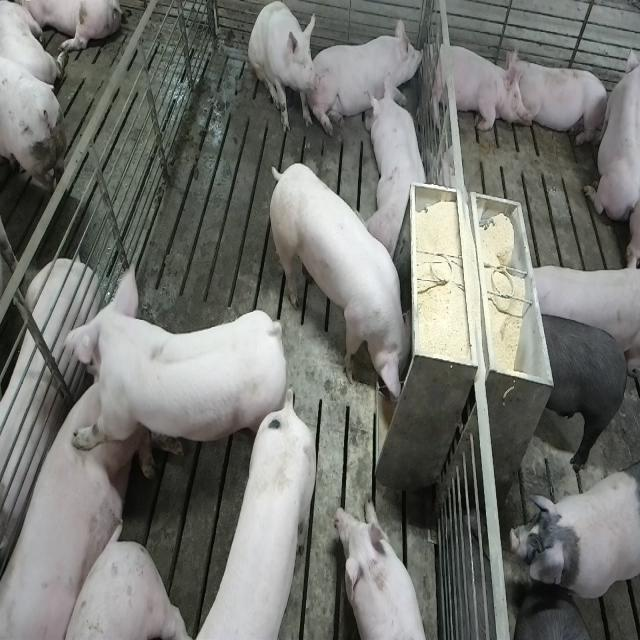Feeding: (272, 162, 420, 410)
Lateral_lying: (0, 257, 96, 578)
Sitting: (248, 1, 320, 136)
Standing: (63, 284, 290, 490), (196, 388, 322, 640), (508, 466, 637, 611), (532, 306, 626, 471), (524, 266, 636, 352), (510, 601, 600, 640)
Sternal_lying: (0, 371, 127, 635), (333, 500, 433, 640), (315, 13, 425, 139), (368, 78, 431, 256), (584, 37, 637, 227), (510, 52, 610, 148), (424, 37, 520, 135)
